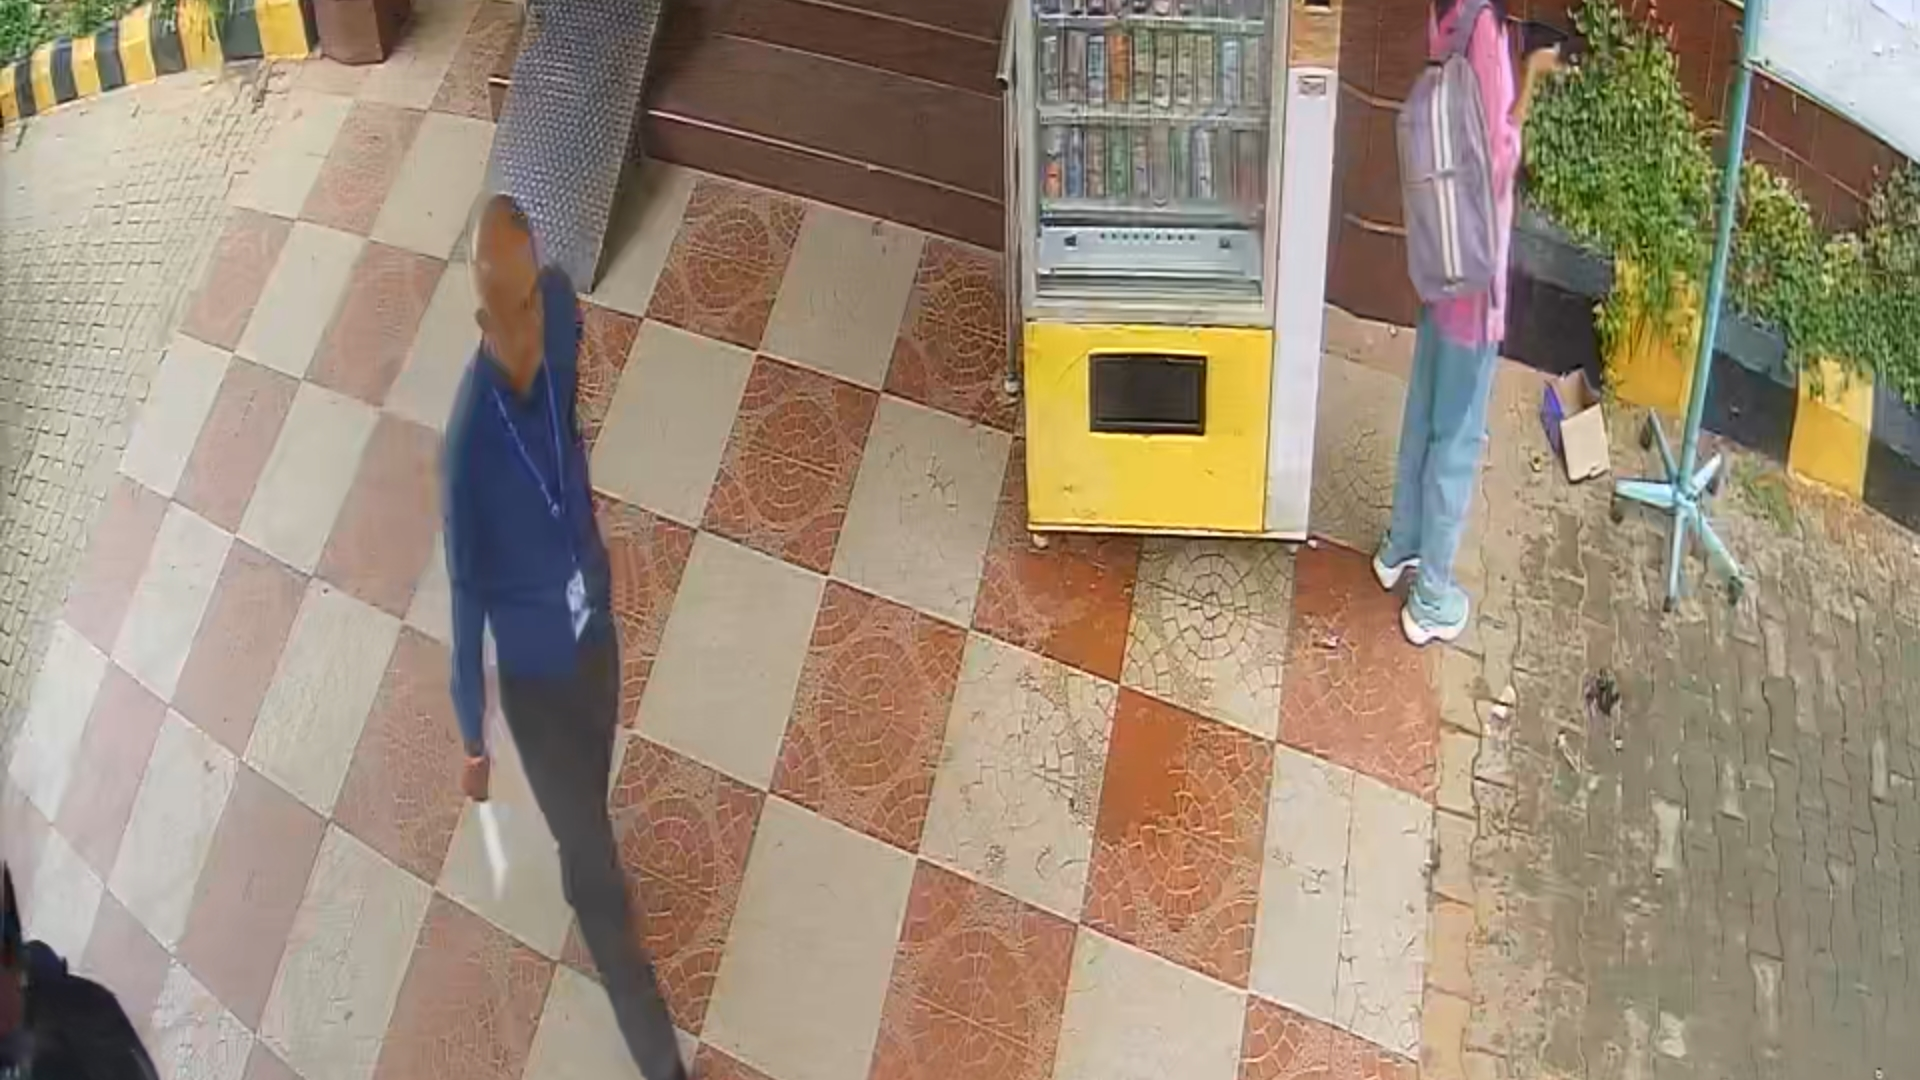not intruder: (419, 182, 756, 1080)
